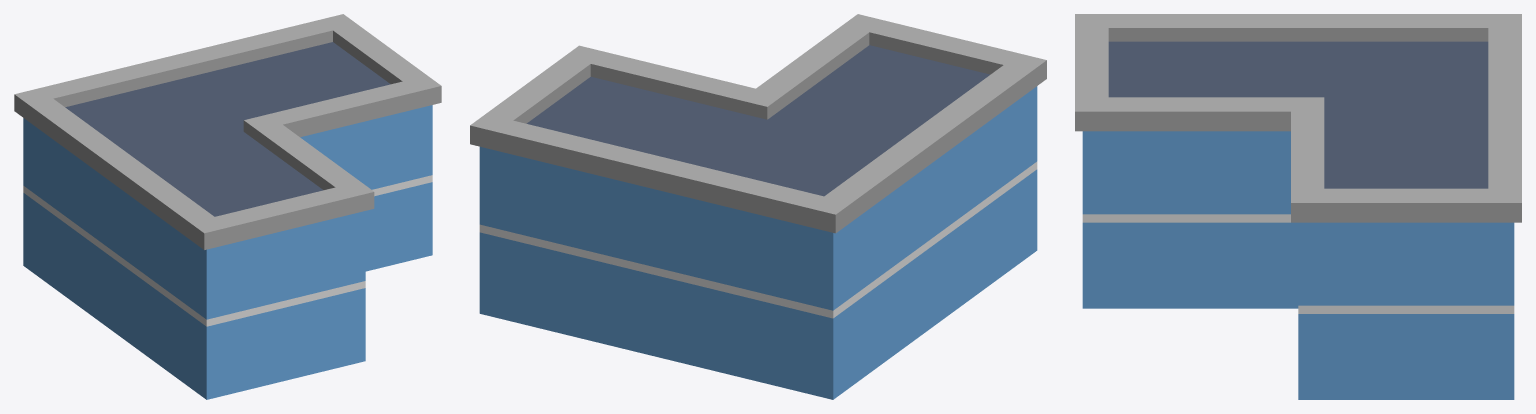
File: building_L_7_r.glb
3 renders of one model, left to right at view 1: azimuth 30°, elevation 25°; view 2: azimuth 150°, elevation 25°; view 3: azimuth 270°, elevation 25°, orthographic. The views are drawn at different scales.
Parts seen in each view (by area): view 1: Cube.002; view 2: Cube.002; view 3: Cube.002.
Boxes of the visible parts, x1,y1,x2,y2 form: Cube.002: (14, 14, 441, 399); Cube.002: (470, 14, 1046, 399); Cube.002: (1075, 14, 1521, 399).
Size of the model in its own units: 3.43 by 1.7 by 3.43.
